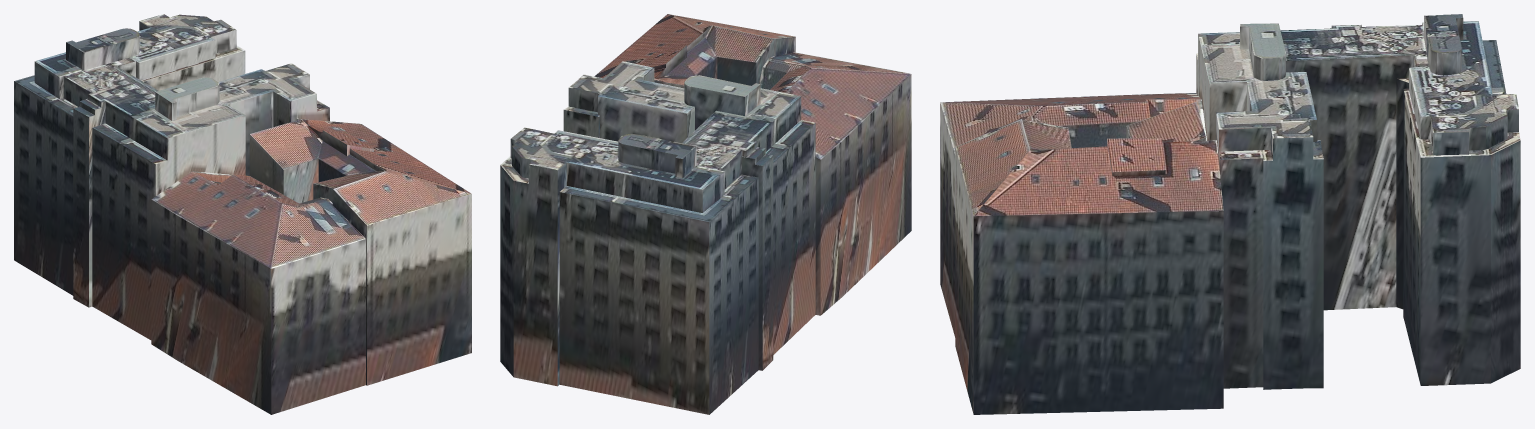
Rendered from LYON_1ER_00149.dae.
The picture shows the model from 3 angles, left to right: view 1: azimuth 30°, elevation 25°; view 2: azimuth 150°, elevation 25°; view 3: azimuth 270°, elevation 25°; orthographic projection. The views are drawn at different scales.
Bounding box in the file's own units: 37.91 × 61.44 × 31.94.
2 materials, 2 textured.
